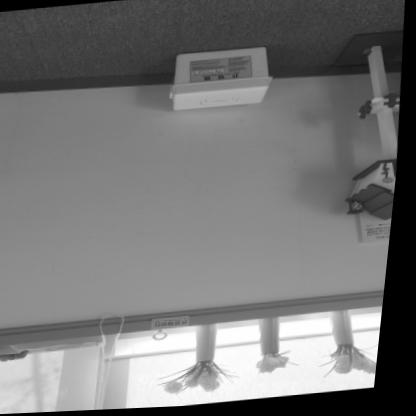DDL: (170, 46, 275, 112)
